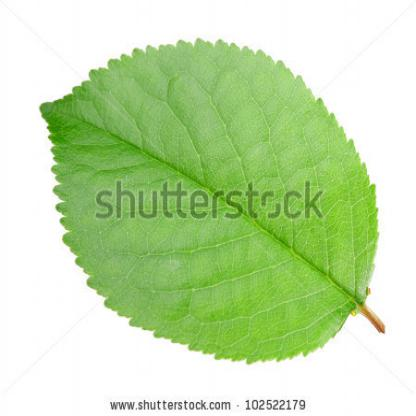apple leaf: (24, 37, 393, 372)
